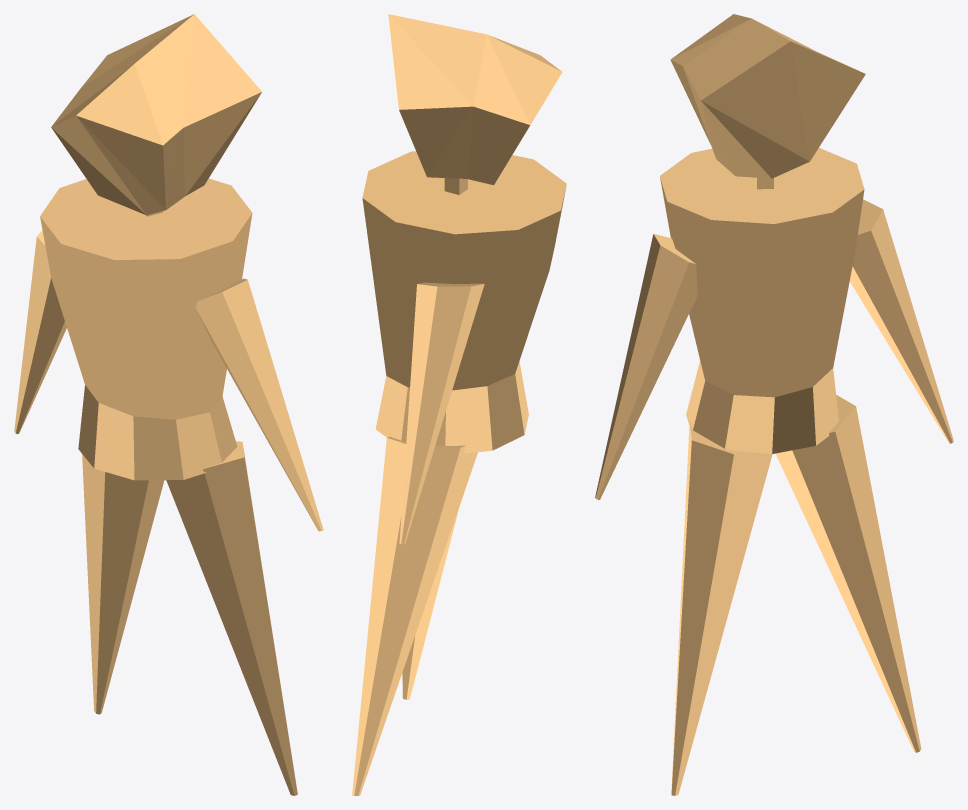
Rendered from ancient_idol.glb.
The picture shows the model from 3 angles, left to right: view 1: azimuth 30°, elevation 25°; view 2: azimuth 150°, elevation 25°; view 3: azimuth 270°, elevation 25°; orthographic projection.
Parts seen in each view (by area): view 1: Node; view 2: Node; view 3: Node.
Boxes of the visible parts, <box> form: Node: <box>14,14,323,795</box>; Node: <box>352,14,566,795</box>; Node: <box>595,14,953,795</box>.
Size of the model in its own units: 0.3962 by 1.42 by 0.6311.
